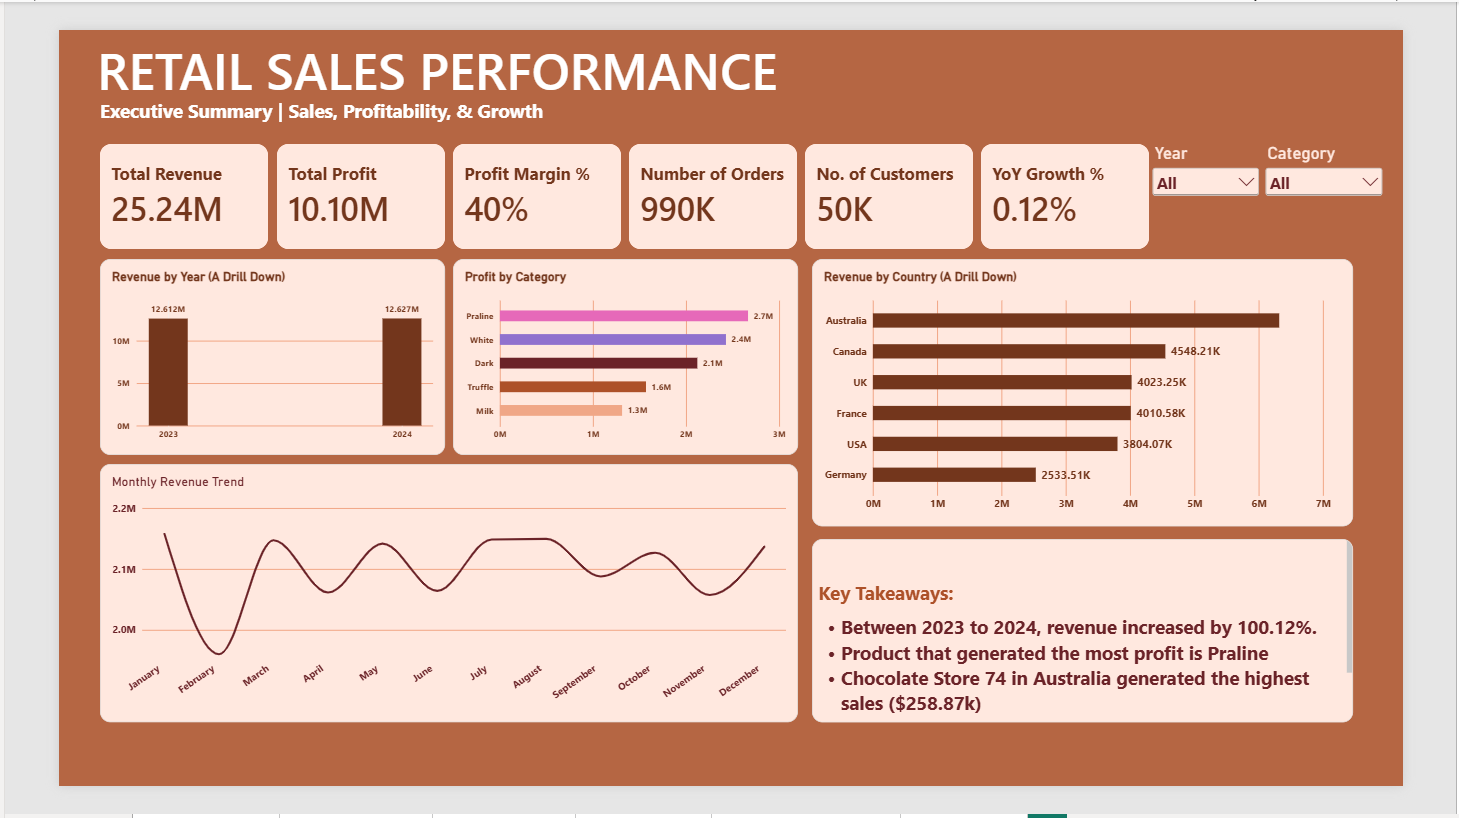

Layout of this report page (visuals, bound fields, positions):
{"tool":"powerbi","page":{"name":"Executive Summary","canvas":[1920,1080],"ordinal":0},"visuals":[{"type":"textbox","box":[25,0,1030,113.3],"z":0},{"type":"cardVisual","fields":{"Data":["sales.Total Revenue"]},"box":[58.6,162.9,240,150],"z":1000},{"type":"cardVisual","fields":{"Data":["sales.Total Profit"]},"box":[311.4,162.9,240,150],"z":2000},{"type":"cardVisual","fields":{"Data":["sales.Profit Margin %"]},"box":[562.9,162.9,240,150],"z":3000},{"type":"cardVisual","fields":{"Data":["sales.Number of Orders"]},"box":[814.3,162.9,240,150],"z":4000},{"type":"cardVisual","fields":{"Data":["sales.No. of Customers"]},"box":[1065.7,162.9,240,150],"z":5000},{"type":"cardVisual","fields":{"Data":["sales.Executive YoY Growth %"]},"box":[1316.7,163.3,240,150],"z":6000},{"type":"clusteredColumnChart","title":"Revenue by Year (A Drill Down)","fields":{"Category":["calendar.year","calendar.Quarter","calendar.month_name"],"Y":["sales.Total Revenue"]},"box":[58.6,326.7,492.9,280],"z":7000},{"type":"clusteredBarChart","title":"Profit by Category","fields":{"Category":["products.Category for Chart"],"Y":["sales.Total Profit"]},"box":[562.9,326.7,493,280],"z":8000},{"type":"clusteredBarChart","title":"Revenue by Country (A Drill Down)","fields":{"Category":["stores.country","stores.city","stores.store_type","stores.store_name"],"Y":["sales.Total Revenue"]},"box":[1075.7,327.1,772.9,381.4],"z":9000},{"type":"slicer","fields":{"Values":["calendar.year"]},"box":[1556.7,163.3,161.7,150],"z":10000},{"type":"slicer","fields":{"Values":["products.category"]},"box":[1718.3,163.3,176.9,133],"z":11000},{"type":"lineChart","title":"Monthly Revenue Trend","fields":{"Category":["calendar.month_name"],"Y":["sales.Total Revenue"]},"box":[58.6,620,997.1,368.6],"z":12000},{"type":"textbox","box":[1075,726.7,773.3,261.7],"z":13000},{"type":"textbox","box":[58.3,40,641.7,123.3],"z":14000}]}

Visuals, with their boxes in screenshot pixels (x1, y1, x2, y2), scaled from the page's 1920x1080 canvas onto the 1459x818 screenshot:
textbox: BBox(19, 0, 802, 86)
cardVisual - sales.Total Revenue: BBox(45, 123, 227, 237)
cardVisual - sales.Total Profit: BBox(237, 123, 419, 237)
cardVisual - sales.Profit Margin %: BBox(428, 123, 610, 237)
cardVisual - sales.Number of Orders: BBox(619, 123, 801, 237)
cardVisual - sales.No. of Customers: BBox(810, 123, 992, 237)
cardVisual - sales.Executive YoY Growth %: BBox(1001, 124, 1183, 237)
"Revenue by Year (A Drill Down)" clusteredColumnChart: BBox(45, 247, 419, 460)
"Profit by Category" clusteredBarChart: BBox(428, 247, 802, 460)
"Revenue by Country (A Drill Down)" clusteredBarChart: BBox(817, 248, 1405, 537)
slicer - calendar.year: BBox(1183, 124, 1306, 237)
slicer - products.category: BBox(1306, 124, 1440, 224)
"Monthly Revenue Trend" lineChart: BBox(45, 470, 802, 749)
textbox: BBox(817, 550, 1405, 749)
textbox: BBox(44, 30, 532, 124)
